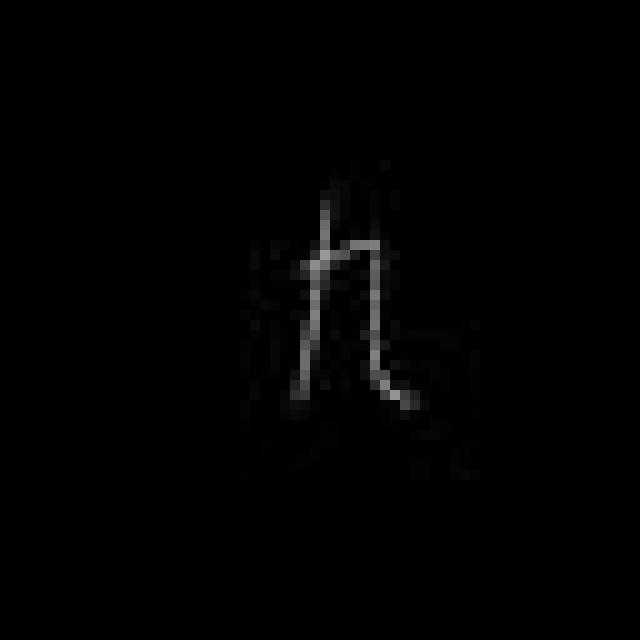9 -nine-: (292, 198, 412, 417)
